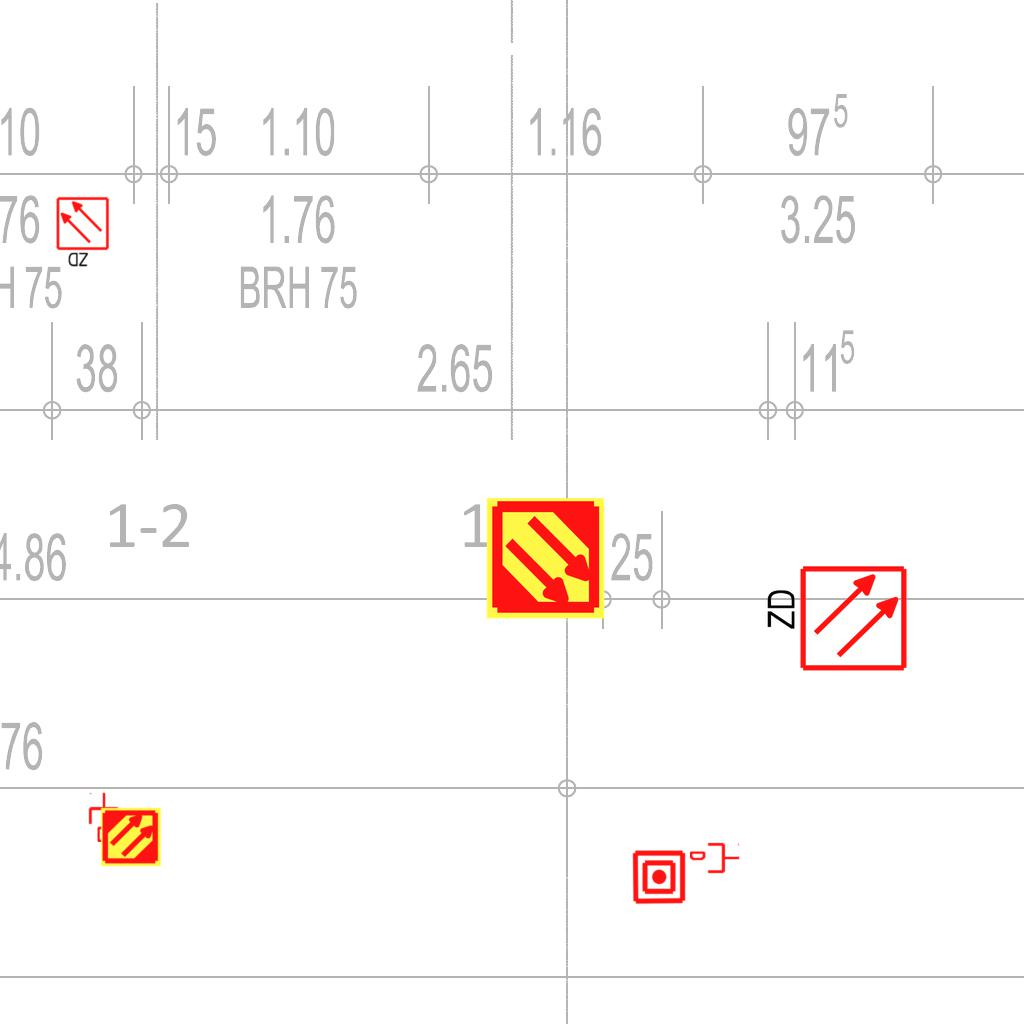ASR_Ansaugrauchmelder: (483, 496, 608, 621), (100, 806, 162, 868)
Datenanschluss_einfach: (690, 841, 740, 875), (87, 792, 121, 842)
NAM-Nichtautomatischer_Melder: (631, 849, 687, 905)
ZD_Melder_in_Zwischendecke_mit_Revisionsoeffnung_mind_40_x_40_cm: (760, 563, 909, 677), (55, 196, 112, 270)
